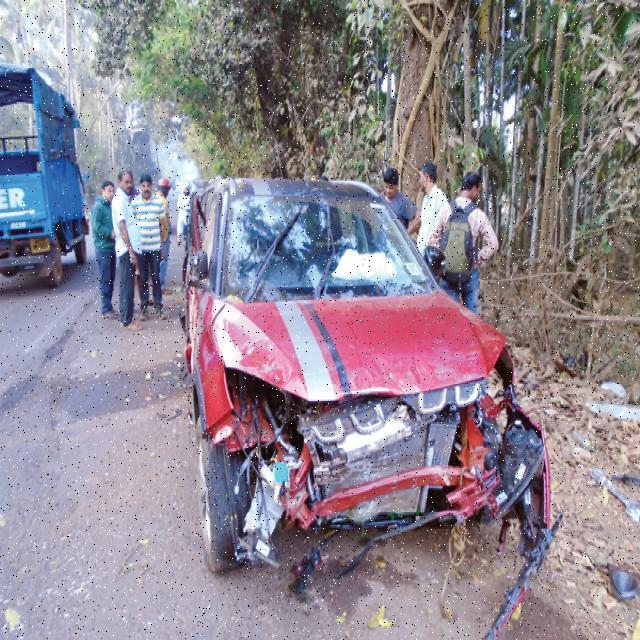front-bumper-dent: (202, 386, 544, 544)
